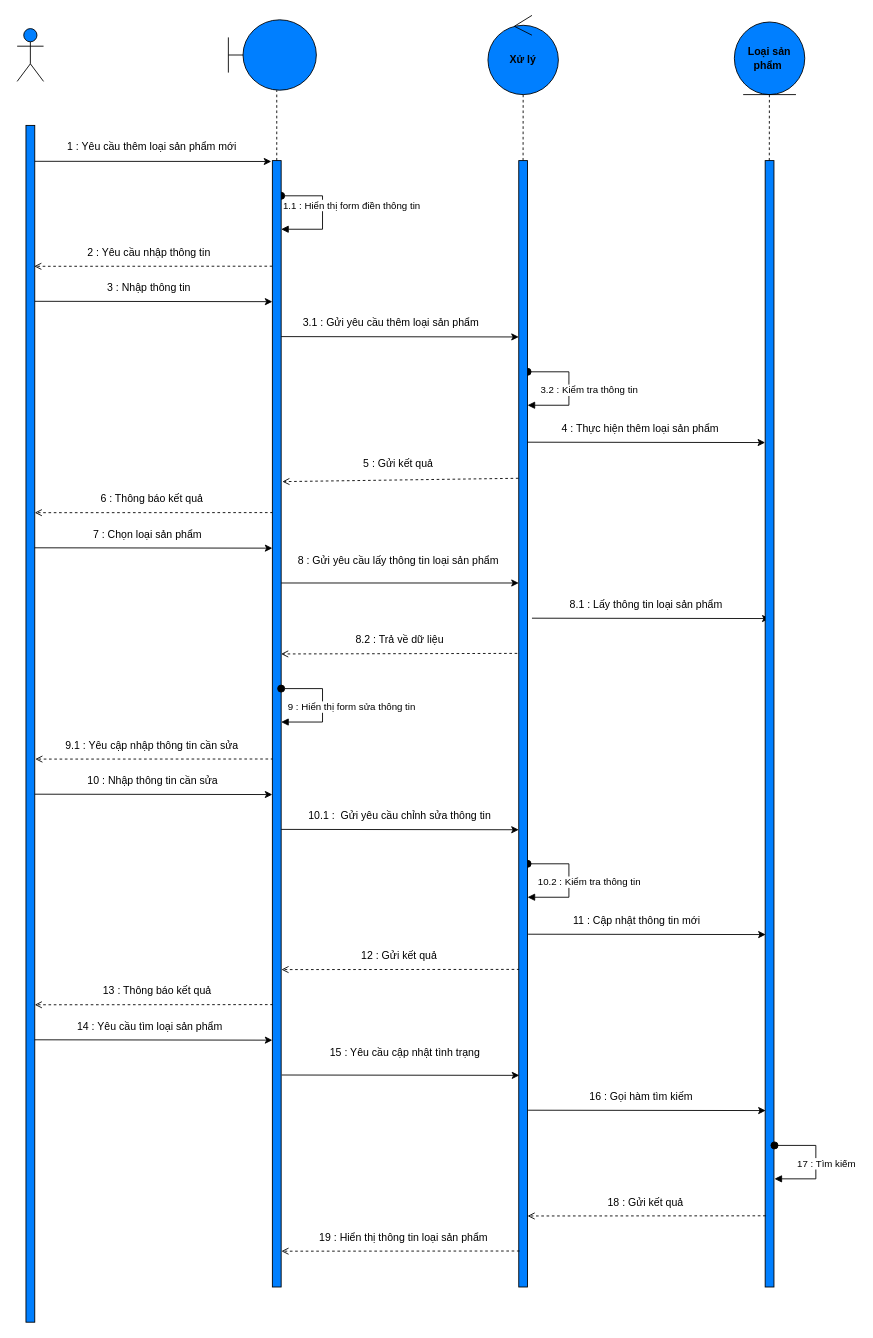
Image size: 873x1338. Some labels were removed from this diagram. Each missing label, with the box of its shape:
Admin: (16, 28, 44, 81)
Trang quản lí loại sản phẩm: (227, 19, 316, 90)
